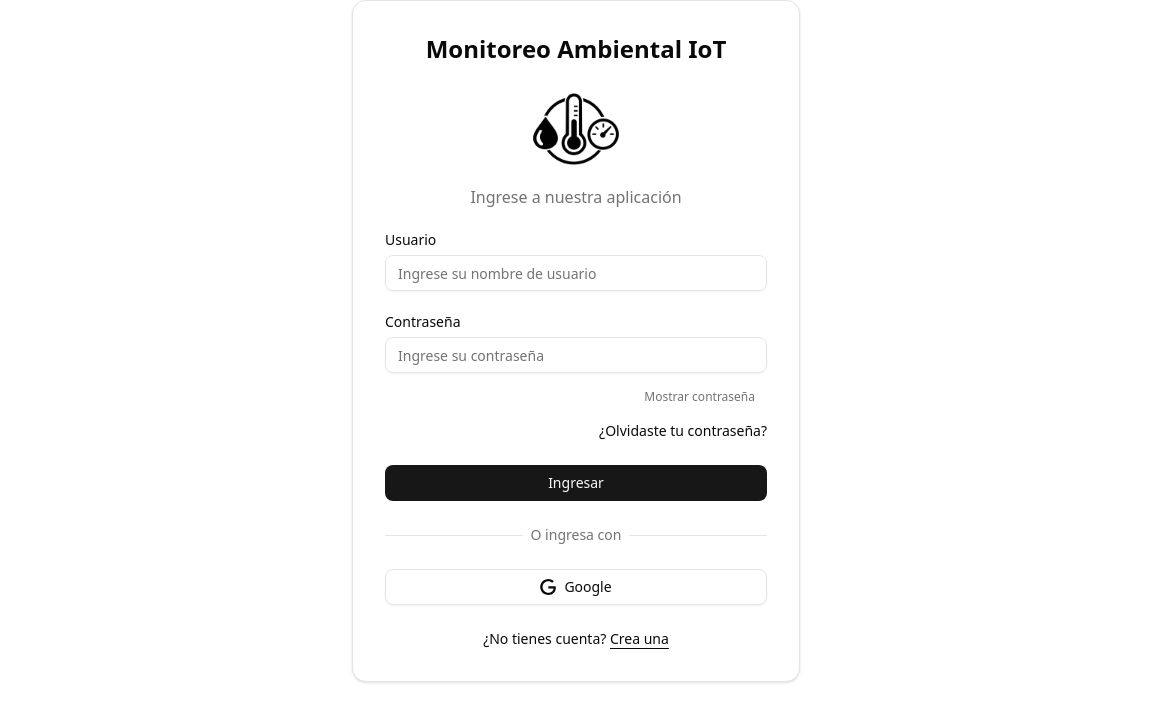
LoginPage › shows concise Google access guidance when capability is false despite legacy data
Click the button "Google": click(576, 587) x1=385 y1=569 x2=767 y2=605
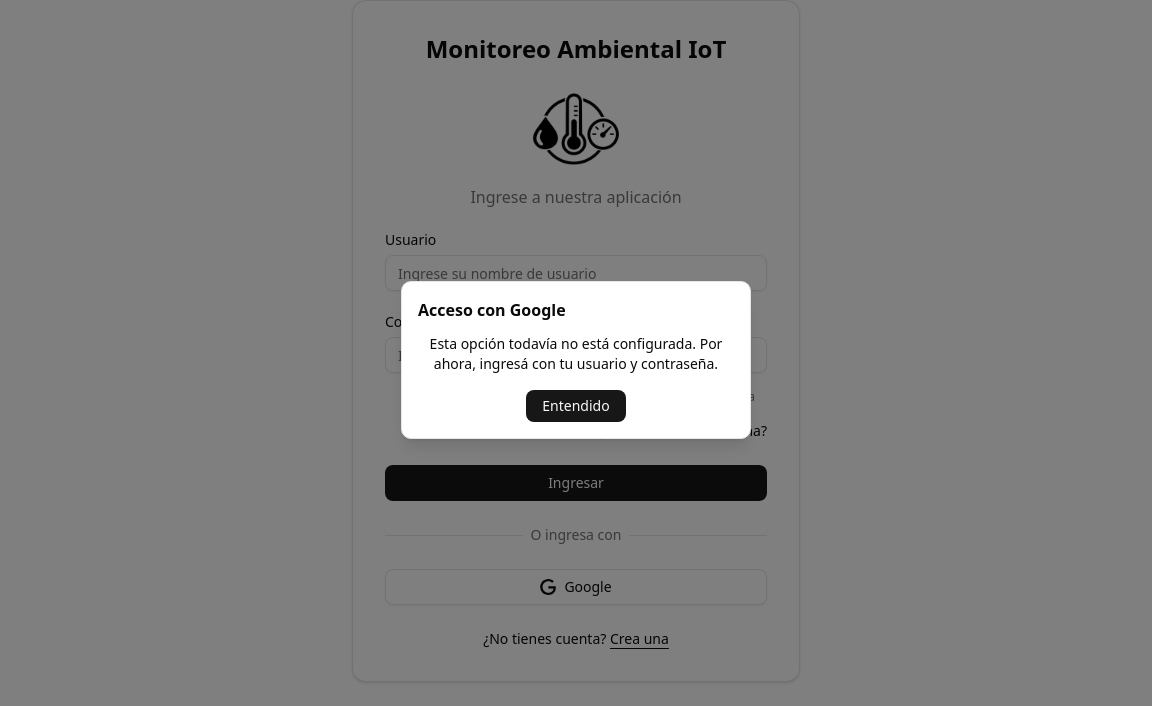
Now the heading "Acceso con Google" is shown, box x1=418 y1=299 x2=566 y2=321
Now the dialog shows "Esta opción todavía no está configurada. Por ahora, ingresá con tu usuario y contraseña.", box x1=430 y1=334 x2=722 y2=373
Click the button "Entendido": click(576, 406) x1=526 y1=390 x2=626 y2=422
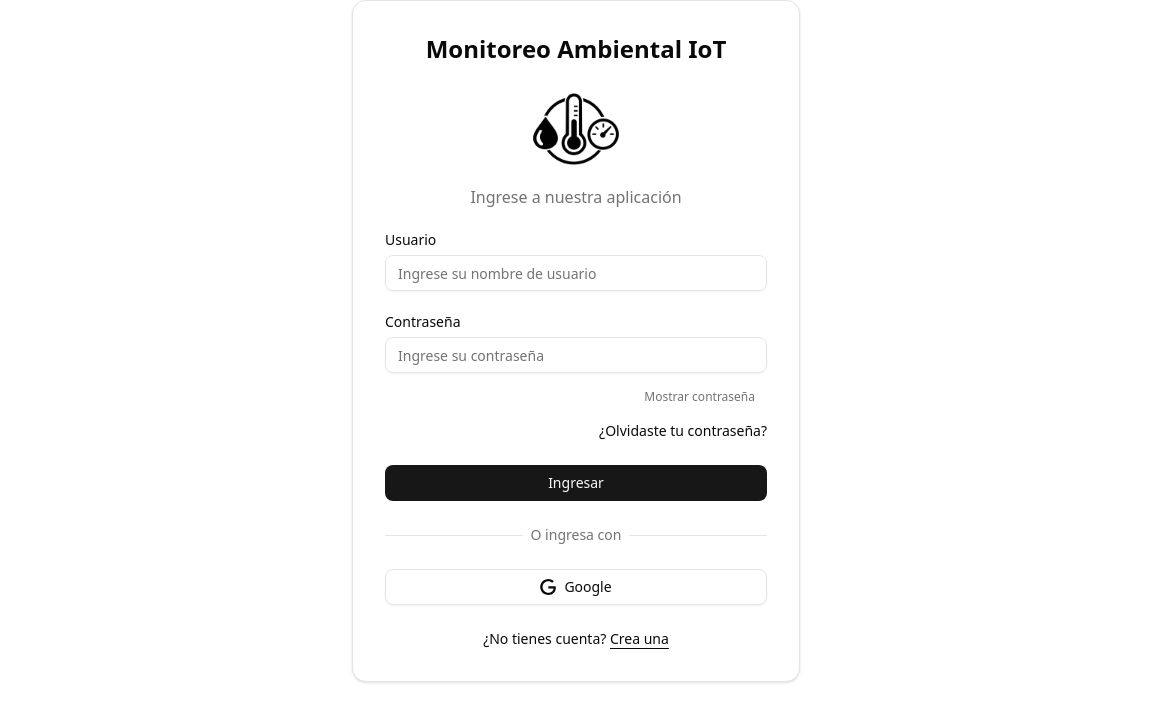
Now the heading "Acceso con Google" is gone
